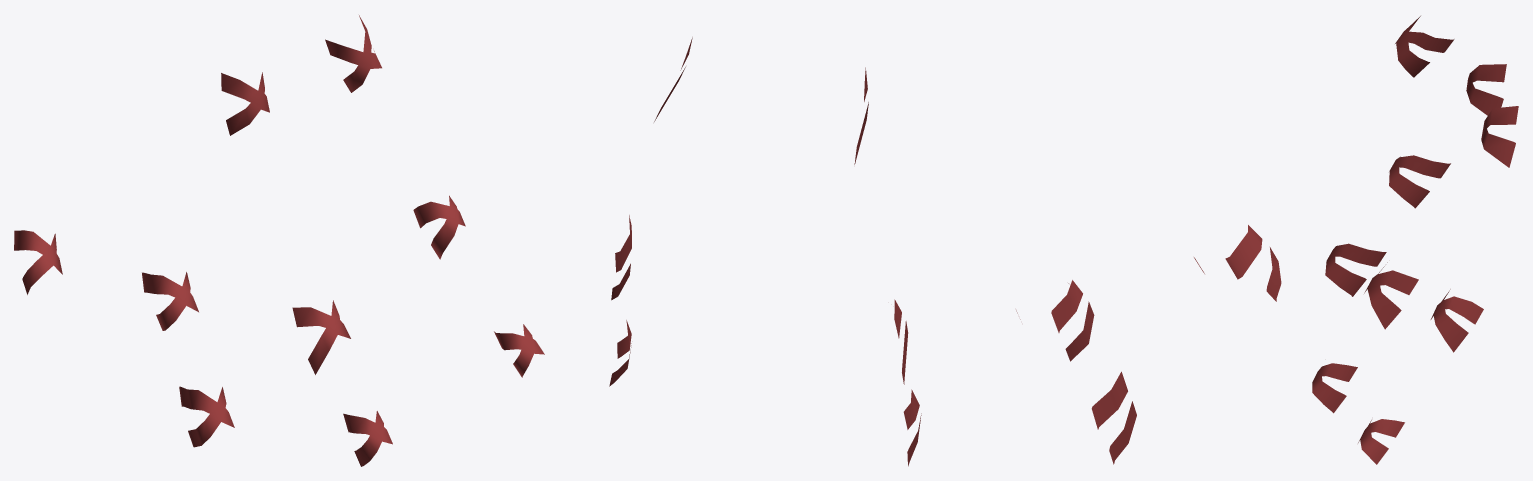
Rendered from cruciform-part-of-fibrous-sheath-of-digit-of-hand-l.glb.
3 views of the same model, side by side, from view 1: azimuth 30°, elevation 25°; view 2: azimuth 150°, elevation 25°; view 3: azimuth 270°, elevation 25° (orthographic). The views are drawn at different scales.
Parts seen in each view (by area): view 1: Cruciform part of fibrous sheath of digit of hand.l; view 2: Cruciform part of fibrous sheath of digit of hand.l; view 3: Cruciform part of fibrous sheath of digit of hand.l.
Boxes of the visible parts, x1,y1,x2,y2 form: Cruciform part of fibrous sheath of digit of hand.l: (14,15,544,466); Cruciform part of fibrous sheath of digit of hand.l: (609,37,1281,466); Cruciform part of fibrous sheath of digit of hand.l: (1312,16,1518,464).
Bounding box in the file's own units: 0.0817 × 0.0564 × 0.0309.
